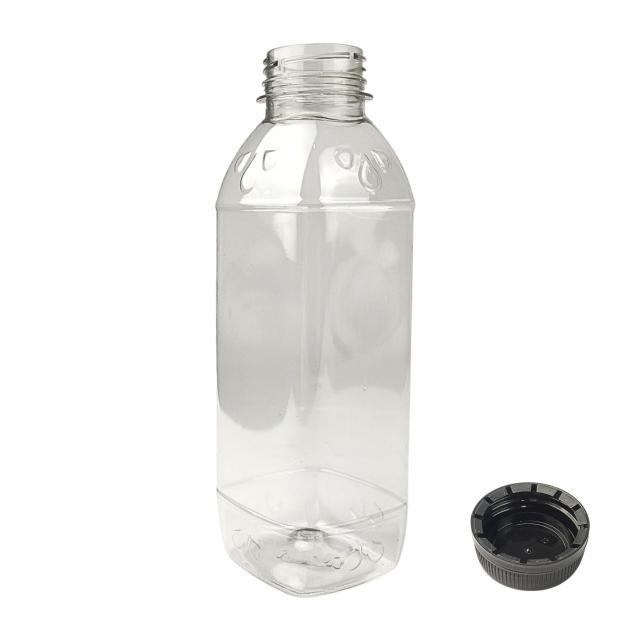bottle: (216, 44, 414, 595)
